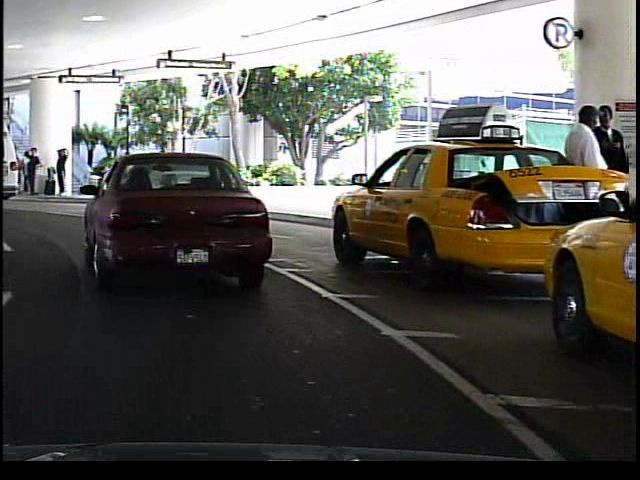person: (555, 103, 609, 266), (590, 99, 631, 255), (20, 142, 42, 201), (111, 146, 136, 194), (50, 142, 69, 199)
